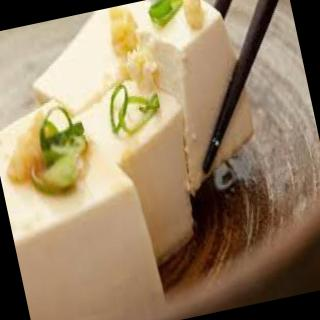Tahu: (1, 1, 295, 320)
